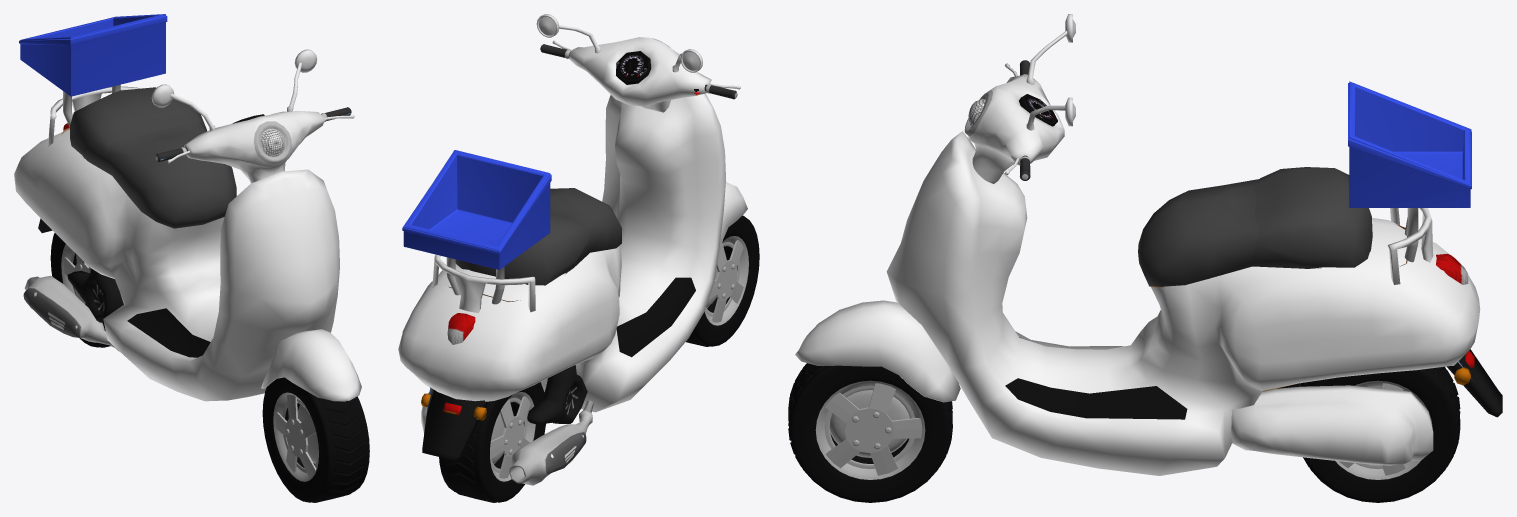
The model's file is player-motorcycle.fbx.
The picture shows the model from 3 angles, left to right: view 1: azimuth 30°, elevation 25°; view 2: azimuth 150°, elevation 25°; view 3: azimuth 270°, elevation 25°; orthographic projection. The views are drawn at different scales.
Visible parts, largest first — view 1: player-motorcycle, player-motorcycle-front-wheel, player-motorcycle-rear-wheel; view 2: player-motorcycle, player-motorcycle-rear-wheel, player-motorcycle-front-wheel; view 3: player-motorcycle, player-motorcycle-front-wheel, player-motorcycle-rear-wheel.
Part boxes in pixels (bbox=[...]): player-motorcycle: bbox=[14, 14, 361, 401]; player-motorcycle-front-wheel: bbox=[262, 377, 369, 502]; player-motorcycle-rear-wheel: bbox=[50, 233, 110, 347]; player-motorcycle: bbox=[398, 14, 747, 485]; player-motorcycle-rear-wheel: bbox=[439, 382, 545, 502]; player-motorcycle-front-wheel: bbox=[686, 215, 759, 346]; player-motorcycle: bbox=[795, 14, 1502, 475]; player-motorcycle-front-wheel: bbox=[788, 363, 952, 502]; player-motorcycle-rear-wheel: bbox=[1300, 366, 1460, 502].
Size of the model in its own units: 1.2 by 2.16 by 3.2.
